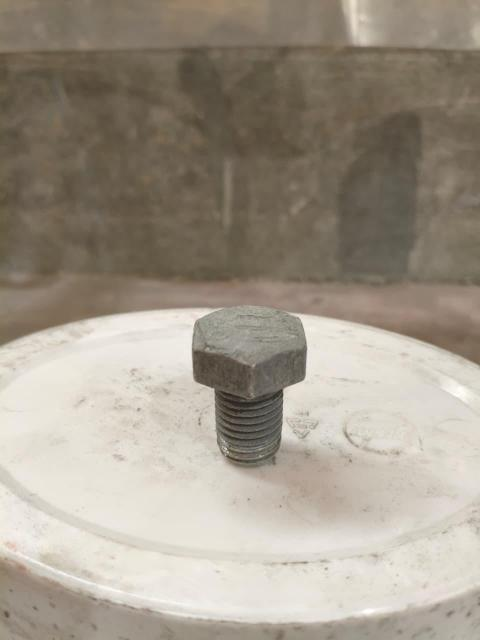Metal: (193, 305, 309, 466)
